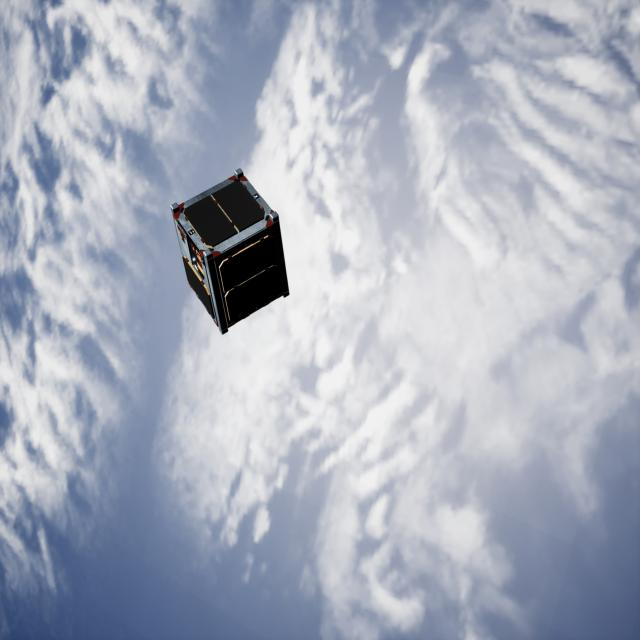satellite: (170, 167, 291, 339)
